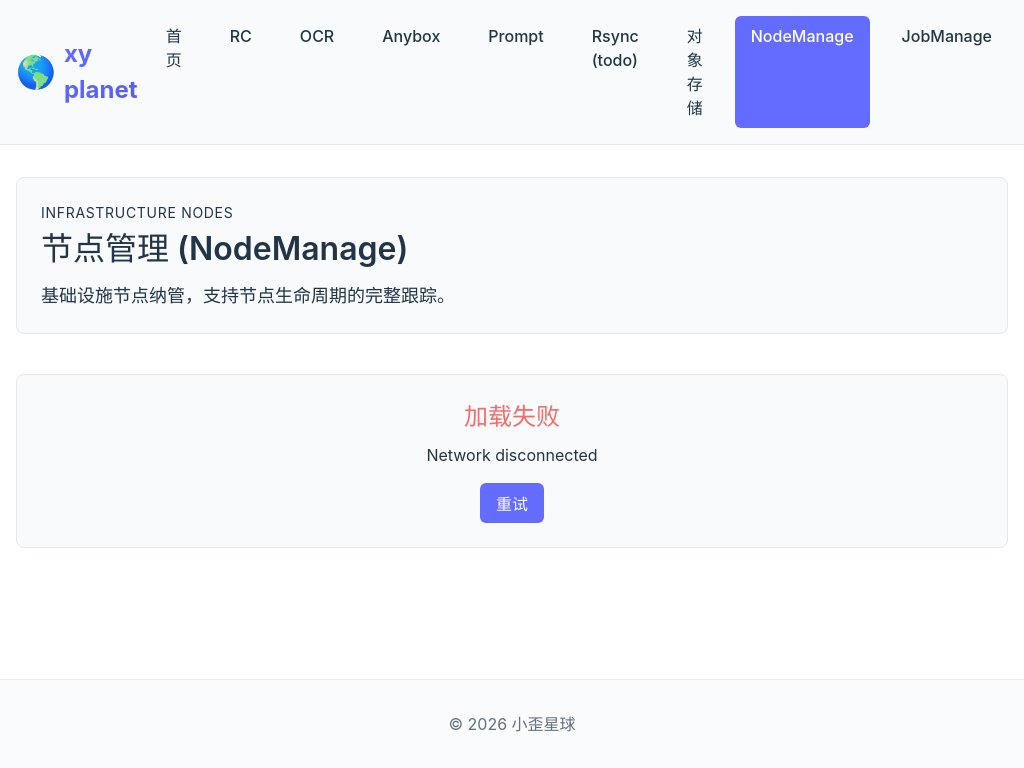
Test: NodeManagePage Integration › renders the error state on fetch failure and allows retry
Expected: the text "Network disconnected" is shown, [426,445,598,465]
What coordinates should you click on to do the following:
click the button "重试"
I would click on:
 (512, 503)
Its box is [480,483,544,523].
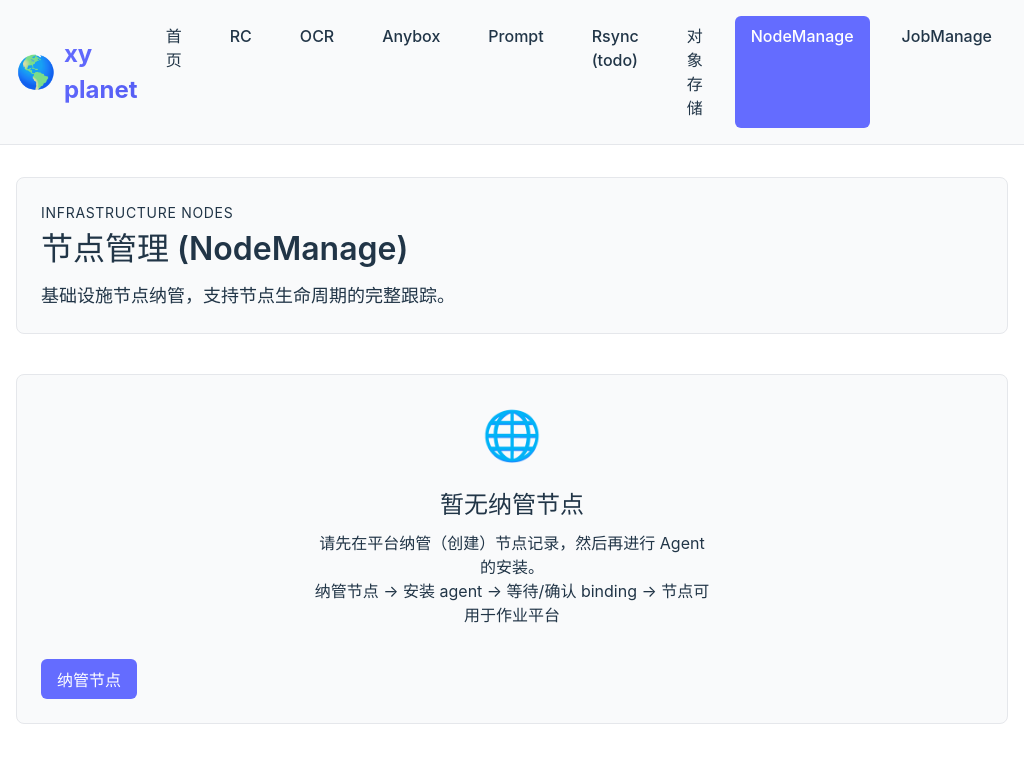
Expected: the button "纳管节点" is shown, [41,659,137,699]
